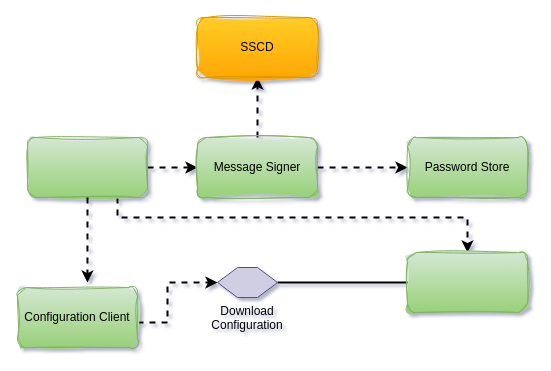
Some shapes in this 551 by 371 pixel diagram are drawn without their labels. Each missing label, with the box of its shape:
Configuration Service: (26, 136, 148, 198)
Web Server: (406, 252, 528, 312)
